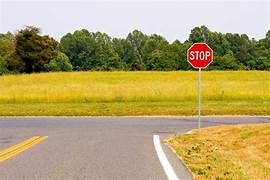stop: (187, 42, 214, 69)
